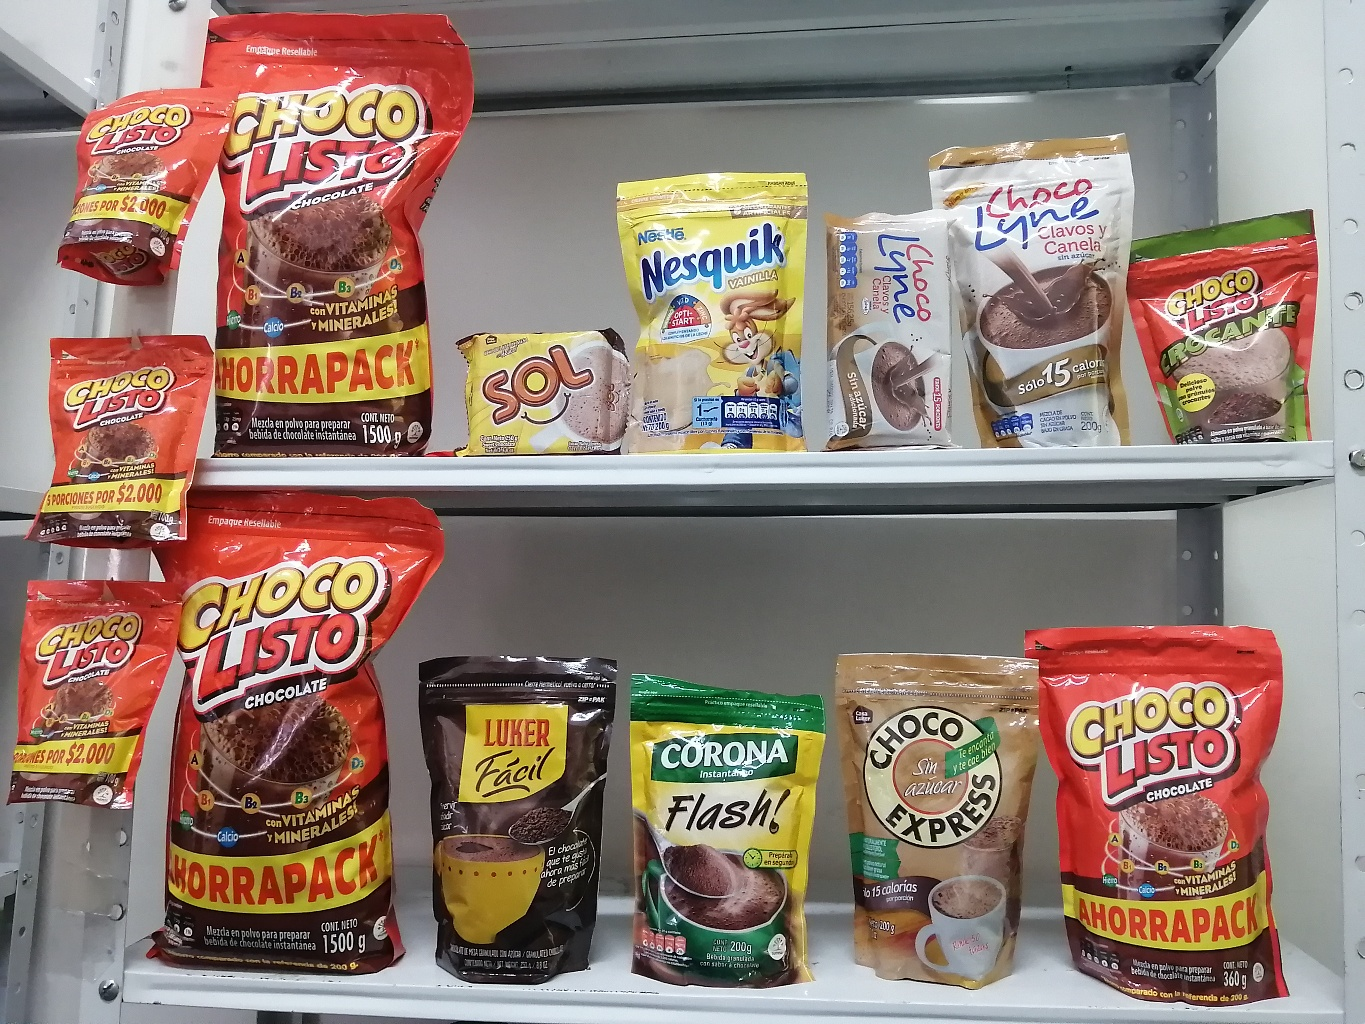COL0170103DYP1,500: (166, 487, 447, 1000)
COL0170103DYP36000: (1019, 605, 1314, 1014)
COL0170306DYP20000: (605, 155, 829, 453)
